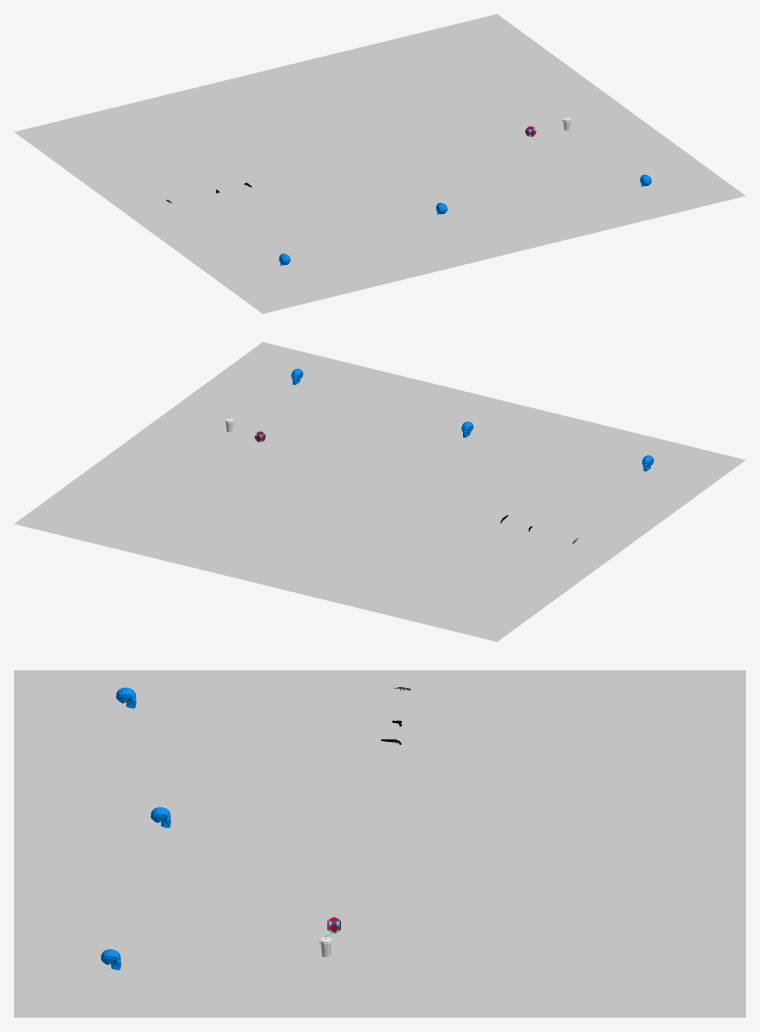
3 renders of one model, top to bottom at view 1: azimuth 30°, elevation 25°; view 2: azimuth 150°, elevation 25°; view 3: azimuth 270°, elevation 25°, orthographic. The views are drawn at different scales.
Parts seen in each view (by area): view 1: ground; view 2: ground; view 3: ground.
Boxes of the visible parts, <box> form: ground: <box>14,14,745,313</box>; ground: <box>14,342,745,641</box>; ground: <box>14,670,745,1017</box>.
Size of the model in its own units: 77.32 by 3.47 by 68.9.
Materials: 20 (1 with a texture image).
